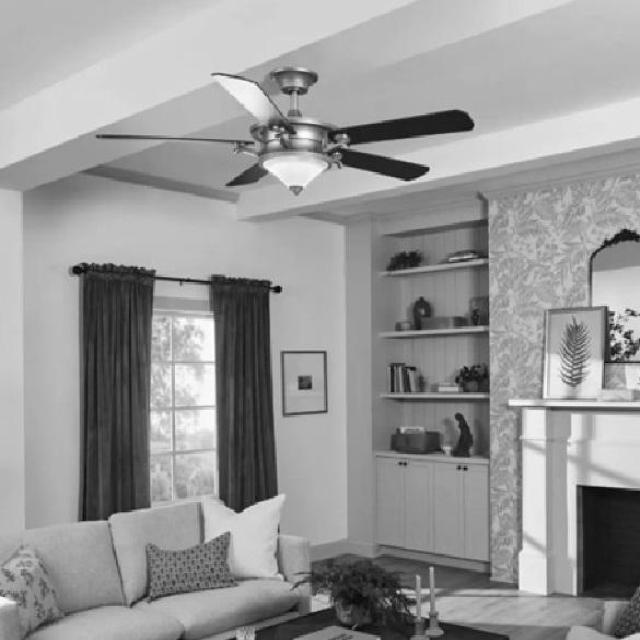fan: (94, 66, 475, 192)
